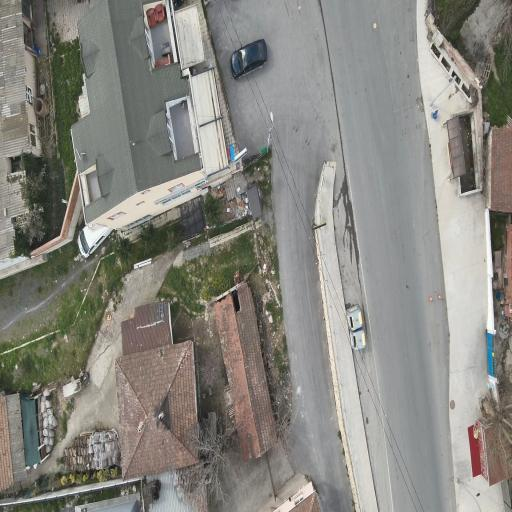car: (231, 39, 267, 78), (78, 226, 112, 257)
